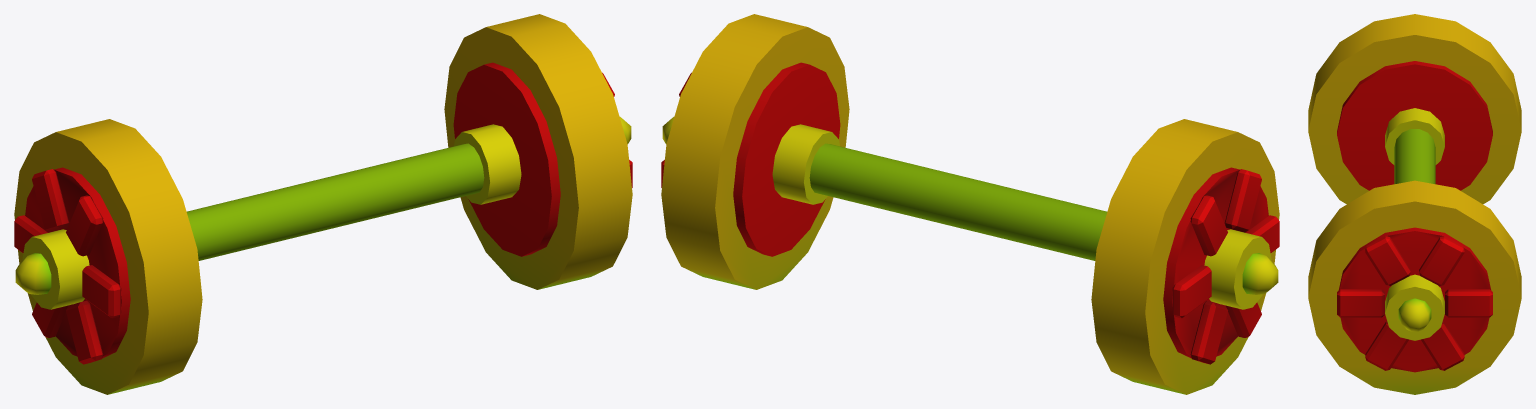
The model's file is PirateCannon_wheel1.glb.
The picture shows the model from 3 angles, left to right: view 1: azimuth 30°, elevation 25°; view 2: azimuth 150°, elevation 25°; view 3: azimuth 270°, elevation 25°; orthographic projection. The views are drawn at different scales.
Visible parts, largest first — view 1: PirateCannon_wheel1; view 2: PirateCannon_wheel1; view 3: PirateCannon_wheel1.
Boxes of the visible parts, left/top/right/bottom form: PirateCannon_wheel1: left=14, top=14, right=632, bottom=394; PirateCannon_wheel1: left=661, top=14, right=1279, bottom=394; PirateCannon_wheel1: left=1308, top=14, right=1521, bottom=394.
Size of the model in its own units: 2.38 by 0.91 by 0.91.
